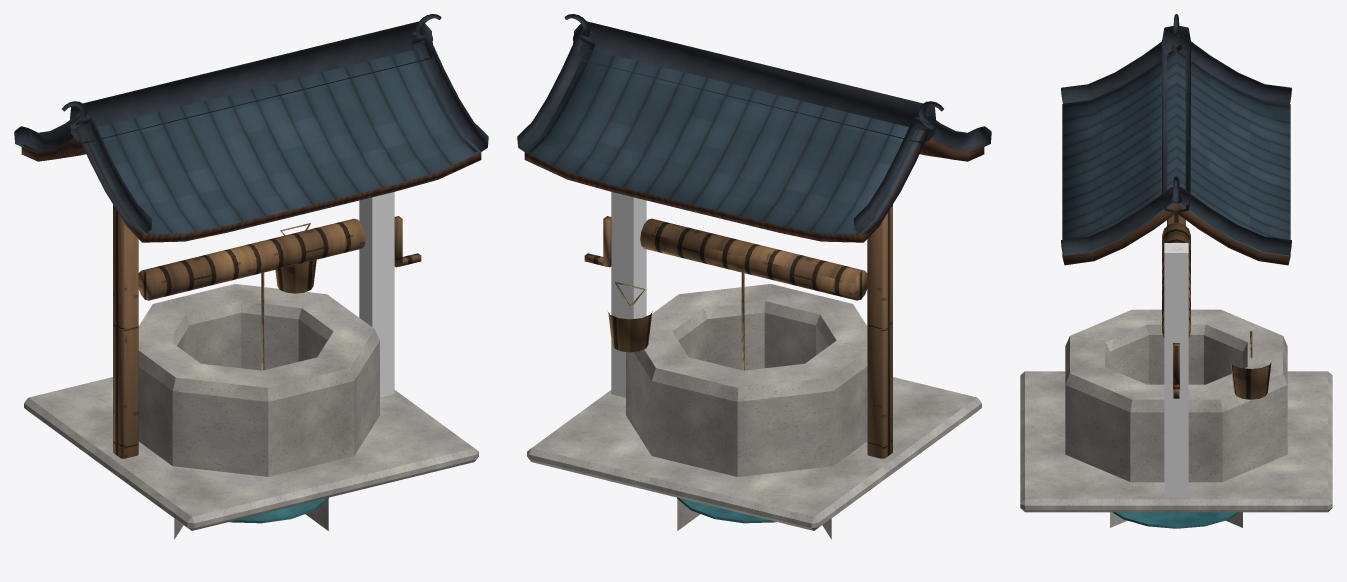
File: village_well.glb
3 views of the same model, side by side, from view 1: azimuth 30°, elevation 25°; view 2: azimuth 150°, elevation 25°; view 3: azimuth 270°, elevation 25° (orthographic). The views are drawn at different scales.
Visible parts, largest first — view 1: WellCurb, WellRoof, WellRoofRidge, WellWood, WellPost-convcolonly.001, WellWater; view 2: WellCurb, WellRoof, WellRoofRidge, WellWood, WellPost-convcolonly.001, WellWater; view 3: WellCurb, WellRoof, WellRoofRidge, WellPost-convcolonly.001, WellWood, WellWater.
Part boxes in pixels (x1,y1,x2,y2): WellCurb: (24, 284, 478, 539); WellRoof: (21, 48, 481, 242); WellRoofRidge: (14, 14, 488, 234); WellWood: (113, 204, 421, 458); WellPost-convcolonly.001: (359, 192, 394, 397); WellWater: (229, 497, 328, 523); WellCurb: (527, 284, 981, 539); WellRoof: (524, 48, 984, 242); WellRoofRidge: (517, 14, 991, 234); WellWood: (584, 204, 892, 458); WellPost-convcolonly.001: (611, 192, 646, 397); WellWater: (677, 497, 776, 523); WellCurb: (1020, 309, 1332, 527); WellRoof: (1062, 49, 1290, 265); WellRoofRidge: (1061, 14, 1291, 257); WellPost-convcolonly.001: (1164, 243, 1188, 497); WellWood: (1162, 213, 1271, 399); WellWater: (1113, 512, 1239, 528).
Size of what is drawn, in the model's own units: 3.38 by 4.07 by 2.6.
Materials: 7 (7 with a texture image).
